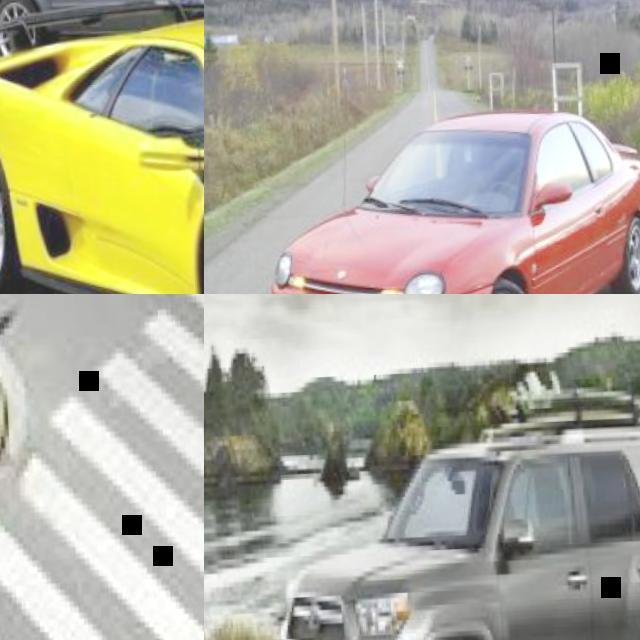car: (266, 110, 639, 417), (296, 418, 639, 637), (0, 0, 201, 303)
